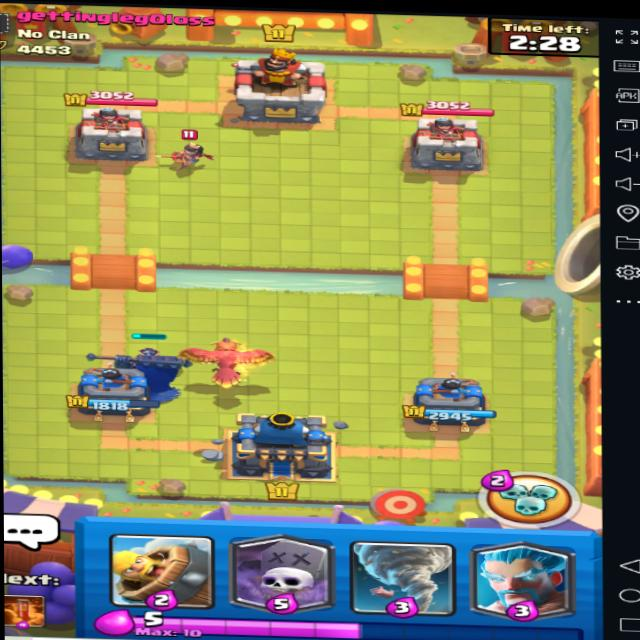princess: (154, 125, 219, 187)
